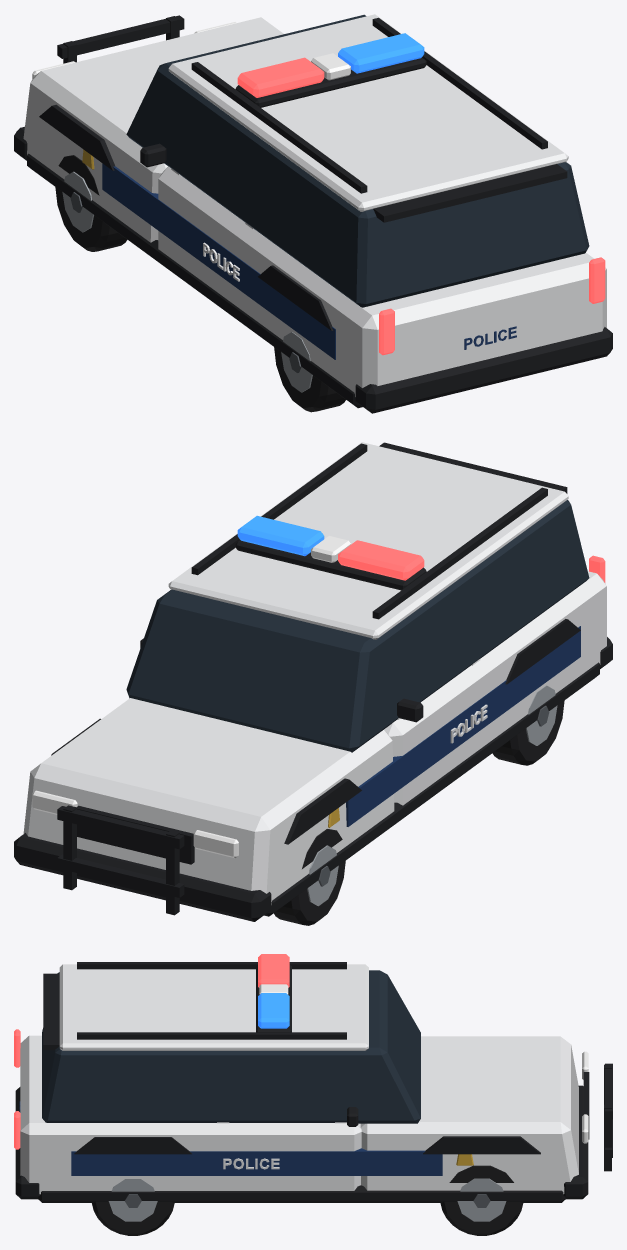
The model's file is PD_PoliceSUV.fbx.
The picture shows the model from 3 angles, top to bottom: view 1: azimuth 30°, elevation 25°; view 2: azimuth 150°, elevation 25°; view 3: azimuth 270°, elevation 25°; orthographic projection. The views are drawn at different scales.
Parts seen in each view (by area): view 1: PD_PoliceSUV_Body, PD_PoliceSUV_Wheel_FL, PD_PoliceSUV_Wheel_RL; view 2: PD_PoliceSUV_Body, PD_PoliceSUV_Wheel_FL, PD_PoliceSUV_Wheel_RL; view 3: PD_PoliceSUV_Body, PD_PoliceSUV_Wheel_FR, PD_PoliceSUV_Wheel_RR.
Boxes of the visible parts, x1,y1,x2,y2 form: PD_PoliceSUV_Body: [14, 14, 612, 413]; PD_PoliceSUV_Wheel_FL: [55, 155, 127, 251]; PD_PoliceSUV_Wheel_RL: [274, 332, 345, 412]; PD_PoliceSUV_Body: [14, 442, 612, 921]; PD_PoliceSUV_Wheel_FL: [274, 829, 345, 925]; PD_PoliceSUV_Wheel_RL: [492, 685, 564, 765]; PD_PoliceSUV_Body: [14, 954, 612, 1202]; PD_PoliceSUV_Wheel_FR: [440, 1165, 523, 1235]; PD_PoliceSUV_Wheel_RR: [92, 1179, 174, 1235].
Size of the model in its own units: 2.28 by 2.01 by 5.33.
